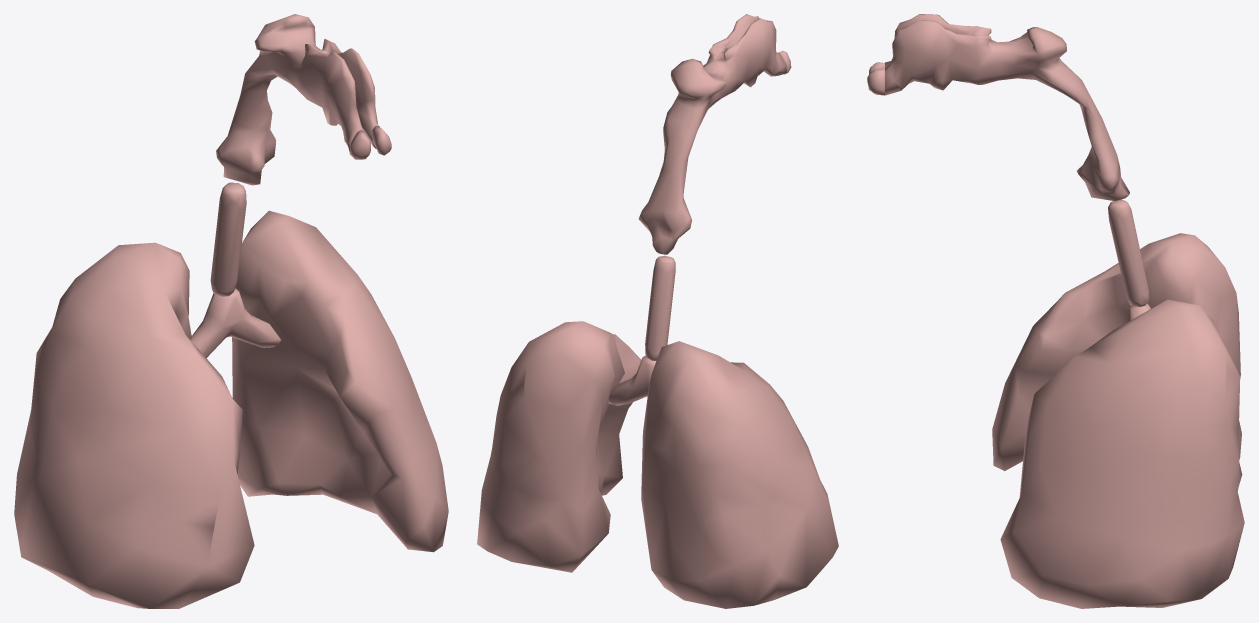
The model's file is pediatric_infant_male.respiratory.LOD2.glb.
3 views of the same model, side by side, from view 1: azimuth 30°, elevation 25°; view 2: azimuth 150°, elevation 25°; view 3: azimuth 270°, elevation 25° (orthographic). The views are drawn at different scales.
Parts seen in each view (by area): view 1: PEDIATRIC.INFANT.MALE.RESPIRATORY.LUNG.R, PEDIATRIC.INFANT.MALE.RESPIRATORY.LUNG.L, PEDIATRIC.INFANT.MALE.RESPIRATORY.ET2, PEDIATRIC.INFANT.MALE.RESPIRATORY.BB1, PEDIATRIC.INFANT.MALE.RESPIRATORY.TRACHEA, PEDIATRIC.INFANT.MALE.RESPIRATORY.ET1; view 2: PEDIATRIC.INFANT.MALE.RESPIRATORY.LUNG.R, PEDIATRIC.INFANT.MALE.RESPIRATORY.LUNG.L, PEDIATRIC.INFANT.MALE.RESPIRATORY.ET2, PEDIATRIC.INFANT.MALE.RESPIRATORY.TRACHEA, PEDIATRIC.INFANT.MALE.RESPIRATORY.BB1; view 3: PEDIATRIC.INFANT.MALE.RESPIRATORY.LUNG.L, PEDIATRIC.INFANT.MALE.RESPIRATORY.LUNG.R, PEDIATRIC.INFANT.MALE.RESPIRATORY.ET2, PEDIATRIC.INFANT.MALE.RESPIRATORY.TRACHEA, PEDIATRIC.INFANT.MALE.RESPIRATORY.ET1.
Part boxes in pixels (box(x1,y1,x2,y2)): PEDIATRIC.INFANT.MALE.RESPIRATORY.LUNG.R: box(14, 242, 254, 608); PEDIATRIC.INFANT.MALE.RESPIRATORY.LUNG.L: box(232, 210, 448, 552); PEDIATRIC.INFANT.MALE.RESPIRATORY.ET2: box(216, 14, 379, 185); PEDIATRIC.INFANT.MALE.RESPIRATORY.BB1: box(191, 288, 281, 357); PEDIATRIC.INFANT.MALE.RESPIRATORY.TRACHEA: box(210, 182, 246, 296); PEDIATRIC.INFANT.MALE.RESPIRATORY.ET1: box(349, 126, 391, 159); PEDIATRIC.INFANT.MALE.RESPIRATORY.LUNG.R: box(641, 341, 838, 608); PEDIATRIC.INFANT.MALE.RESPIRATORY.LUNG.L: box(477, 321, 640, 572); PEDIATRIC.INFANT.MALE.RESPIRATORY.ET2: box(638, 14, 786, 254); PEDIATRIC.INFANT.MALE.RESPIRATORY.TRACHEA: box(645, 255, 675, 360); PEDIATRIC.INFANT.MALE.RESPIRATORY.BB1: box(608, 356, 656, 405); PEDIATRIC.INFANT.MALE.RESPIRATORY.LUNG.L: box(1000, 299, 1244, 608); PEDIATRIC.INFANT.MALE.RESPIRATORY.LUNG.R: box(992, 233, 1241, 470); PEDIATRIC.INFANT.MALE.RESPIRATORY.ET2: box(885, 14, 1129, 201); PEDIATRIC.INFANT.MALE.RESPIRATORY.TRACHEA: box(1108, 199, 1149, 306); PEDIATRIC.INFANT.MALE.RESPIRATORY.ET1: box(867, 62, 884, 95).
Size of the model in its own units: 0.1374 by 0.1929 by 0.1284.
